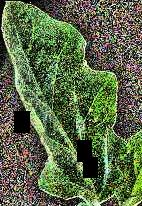HEALTHY: (1, 1, 142, 206)
